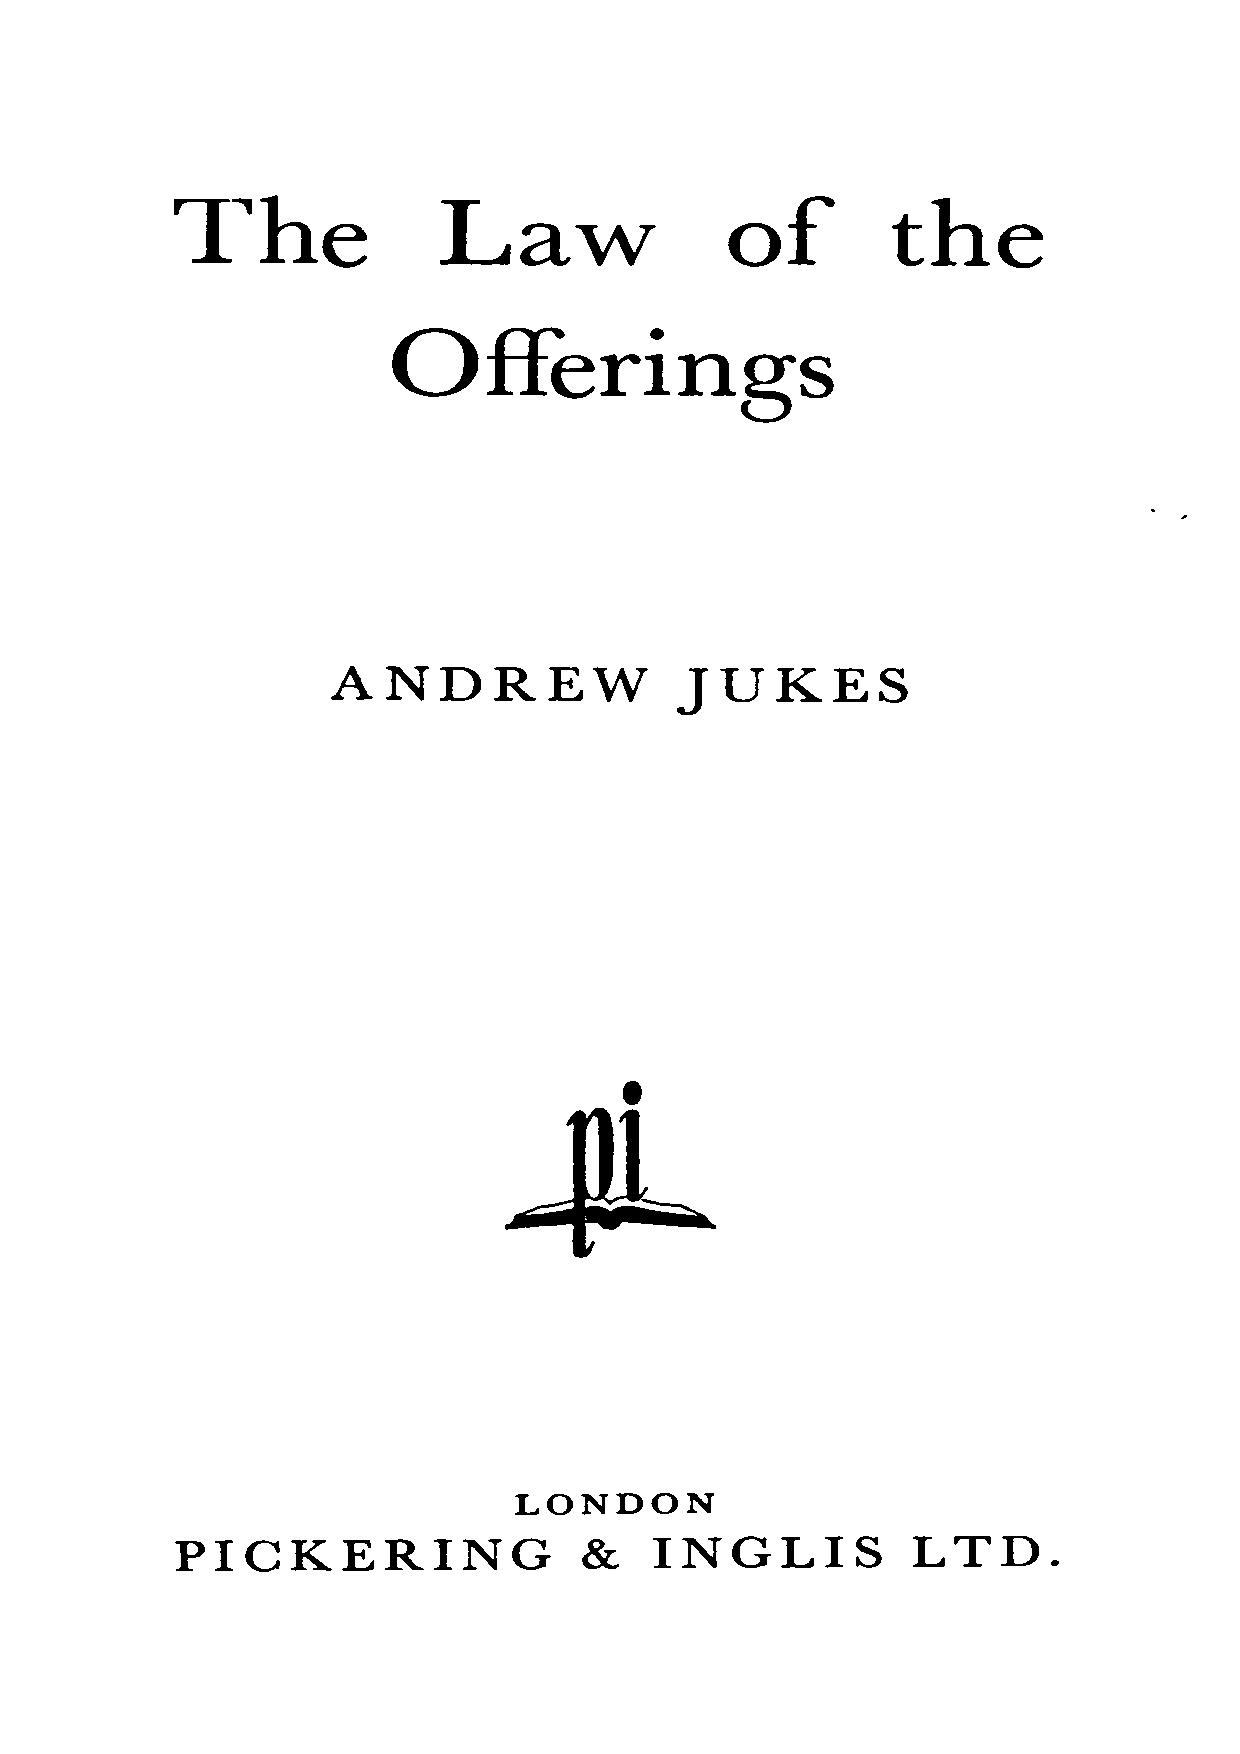author: (326, 664, 909, 717)
title: (170, 193, 1044, 425)
